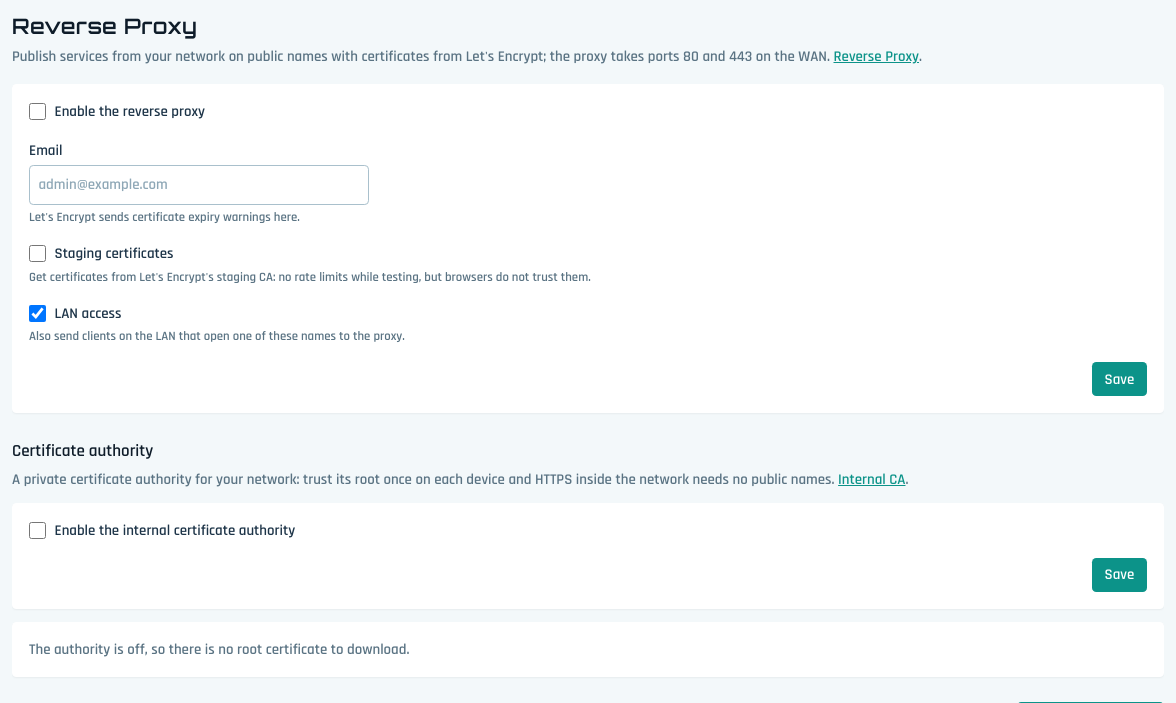
Test case: ReverseProxy settings › shows a server error for the email next to the email field
Type "bad@example.com" into the field labelled "Email" at (199, 185), box [29, 165, 369, 205]
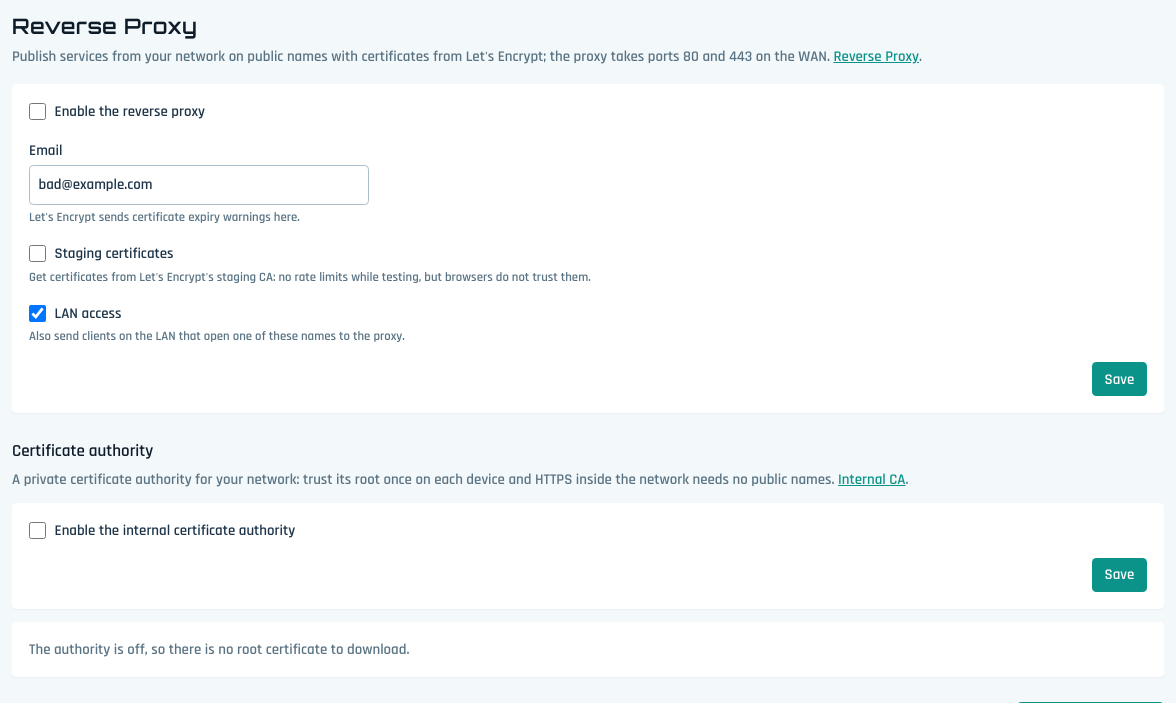
Click the 1st button "Save" at (1119, 379), box [1092, 362, 1147, 396]
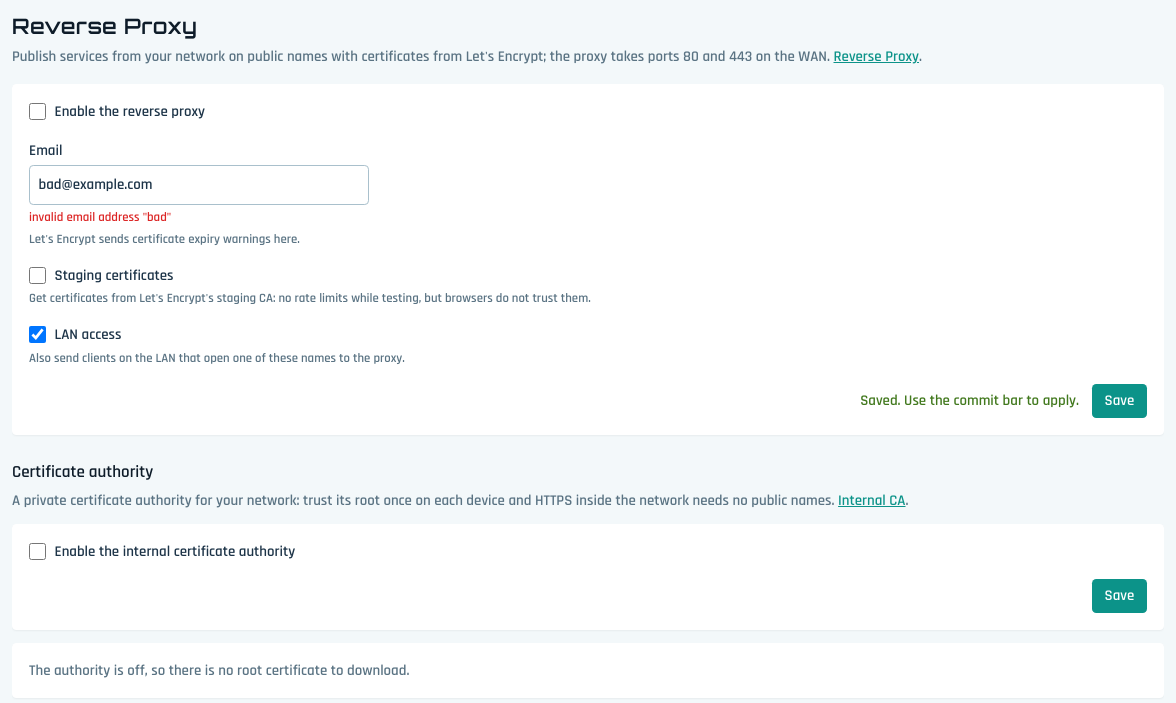
Expected: the message "invalid email address \"bad\"" reads "invalid email address \"bad\"", [29, 209, 171, 225]
